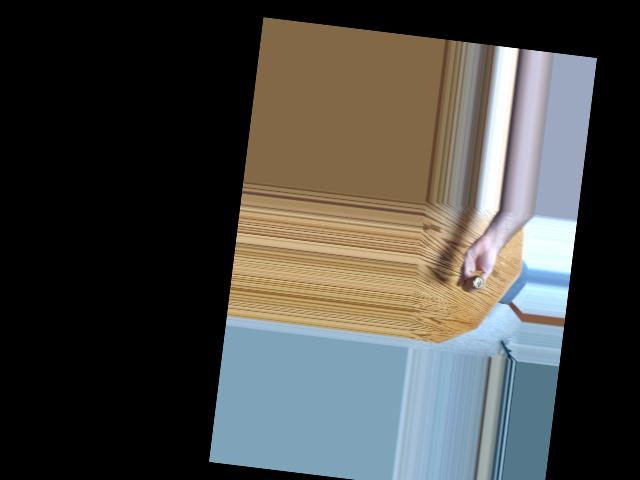sweet_potato: (460, 267, 489, 297)
